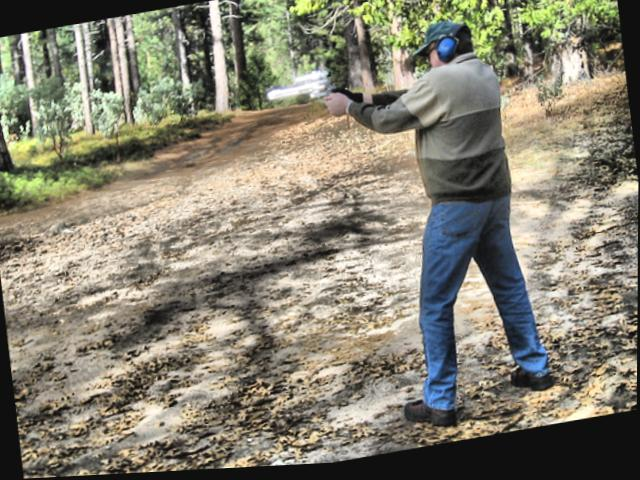pistol: (261, 69, 334, 110)
